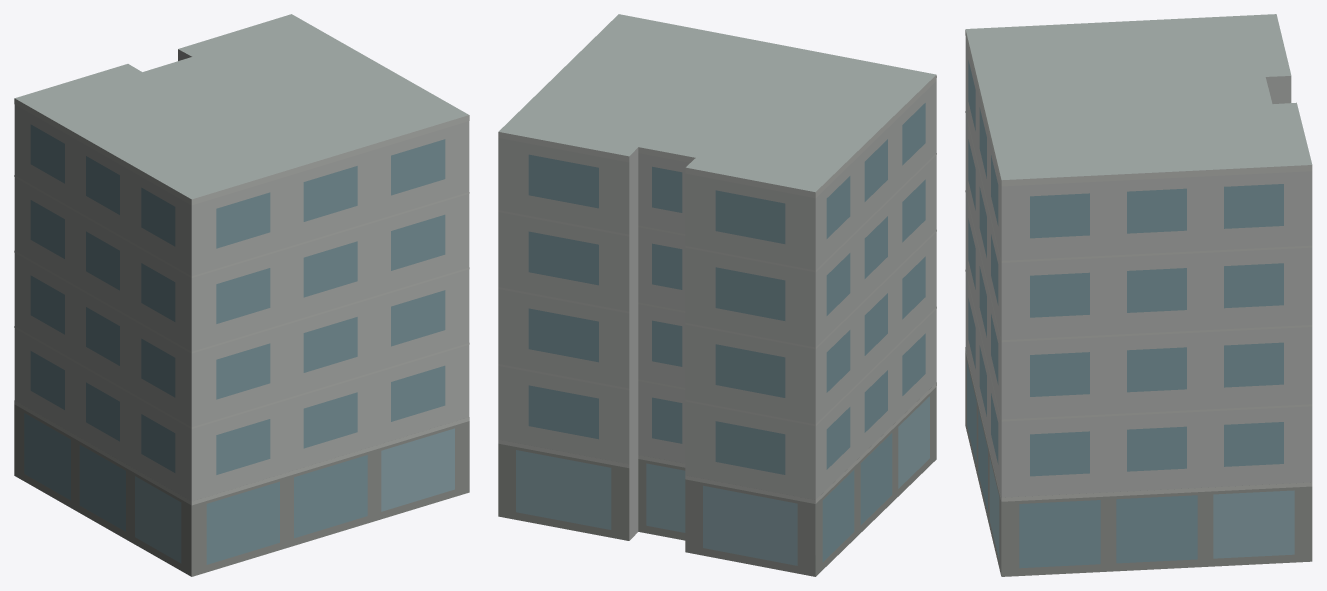
Rendered from survey-upis-32663755.glb.
The picture shows the model from 3 angles, left to right: view 1: azimuth 30°, elevation 25°; view 2: azimuth 150°, elevation 25°; view 3: azimuth 270°, elevation 25°; orthographic projection. The views are drawn at different scales.
Parts seen in each view (by area): view 1: survey-upis-32663755.tmp; view 2: survey-upis-32663755.tmp; view 3: survey-upis-32663755.tmp.
Boxes of the visible parts, x1,y1,x2,y2 form: survey-upis-32663755.tmp: (14, 14, 469, 576); survey-upis-32663755.tmp: (498, 14, 936, 576); survey-upis-32663755.tmp: (965, 14, 1312, 576).
Size of the model in its own units: 13.86 by 15.4 by 12.23.
